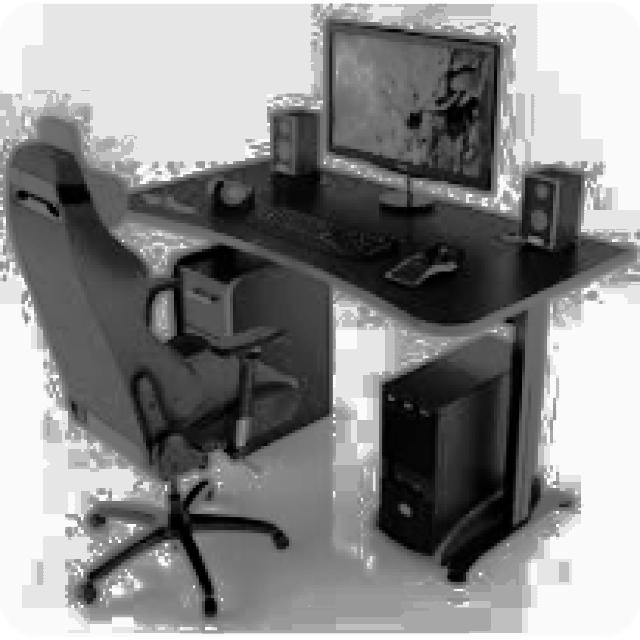book: (7, 123, 302, 617)
table: (112, 145, 637, 582)
